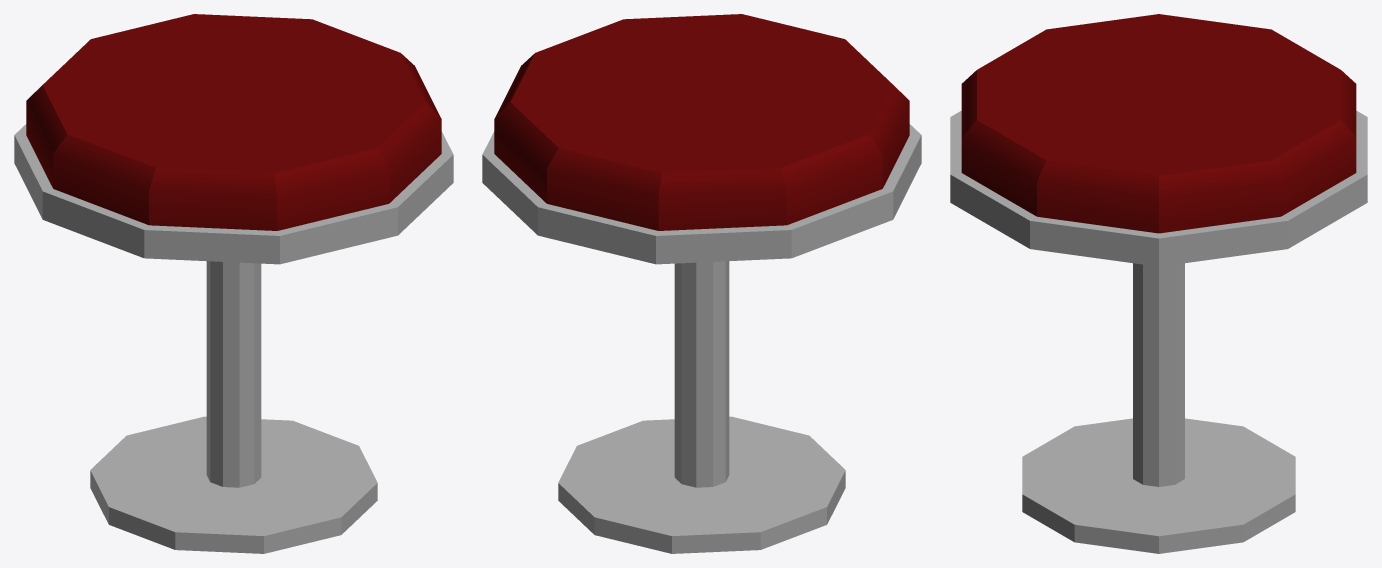
File: table_stool.fbx
The picture shows the model from 3 angles, left to right: view 1: azimuth 30°, elevation 25°; view 2: azimuth 150°, elevation 25°; view 3: azimuth 270°, elevation 25°; orthographic projection.
Parts seen in each view (by area): view 1: Table_Stool; view 2: Table_Stool; view 3: Table_Stool.
Part boxes in pixels (<box>): Table_Stool: <box>14,14,453,553</box>; Table_Stool: <box>482,14,921,553</box>; Table_Stool: <box>950,14,1367,553</box>.
Size of the model in its own units: 0.7287 by 0.7297 by 0.6931.
